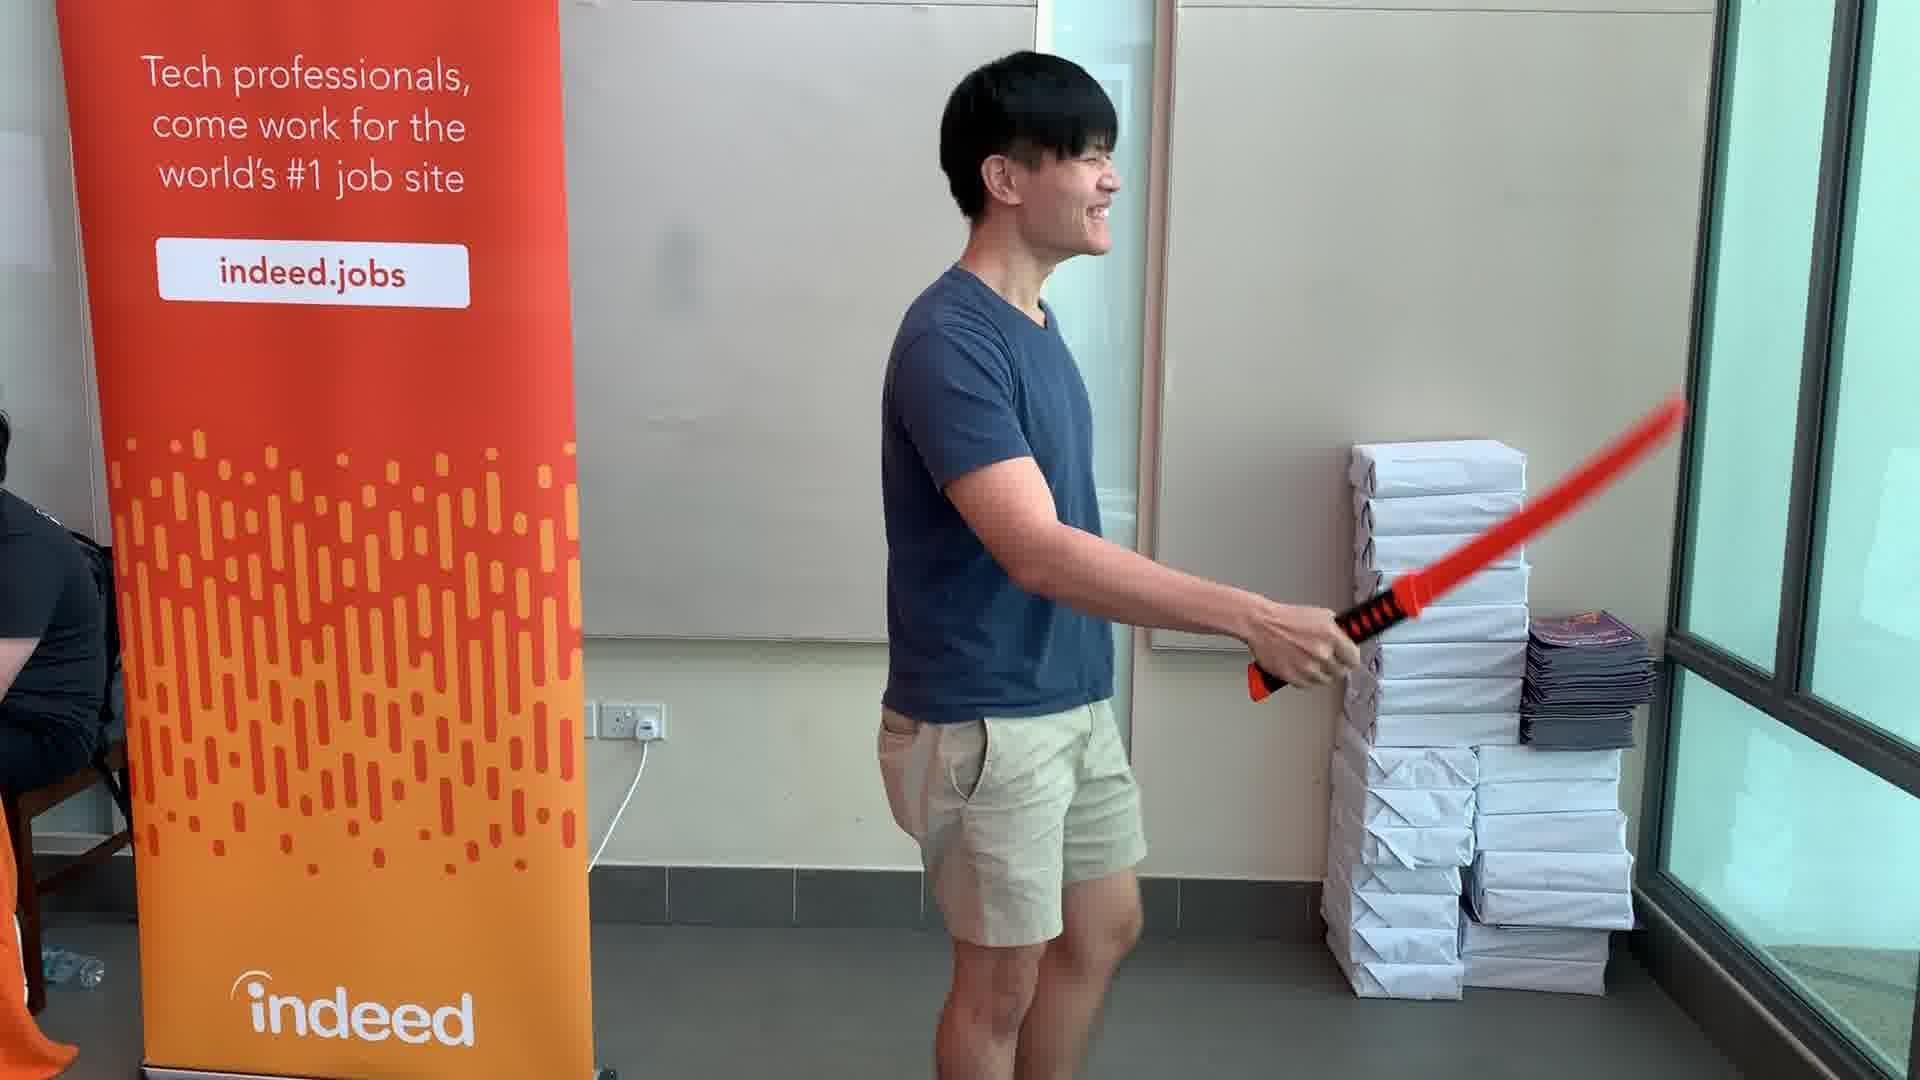knife: (1232, 375, 1698, 707)
